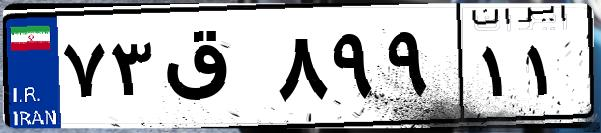1: (475, 38, 525, 113), (525, 38, 570, 115)
3: (110, 28, 158, 98)
7: (57, 26, 110, 100)
8: (270, 28, 330, 110)
9: (385, 28, 445, 110), (330, 28, 385, 110)
ق: (158, 20, 270, 120)
